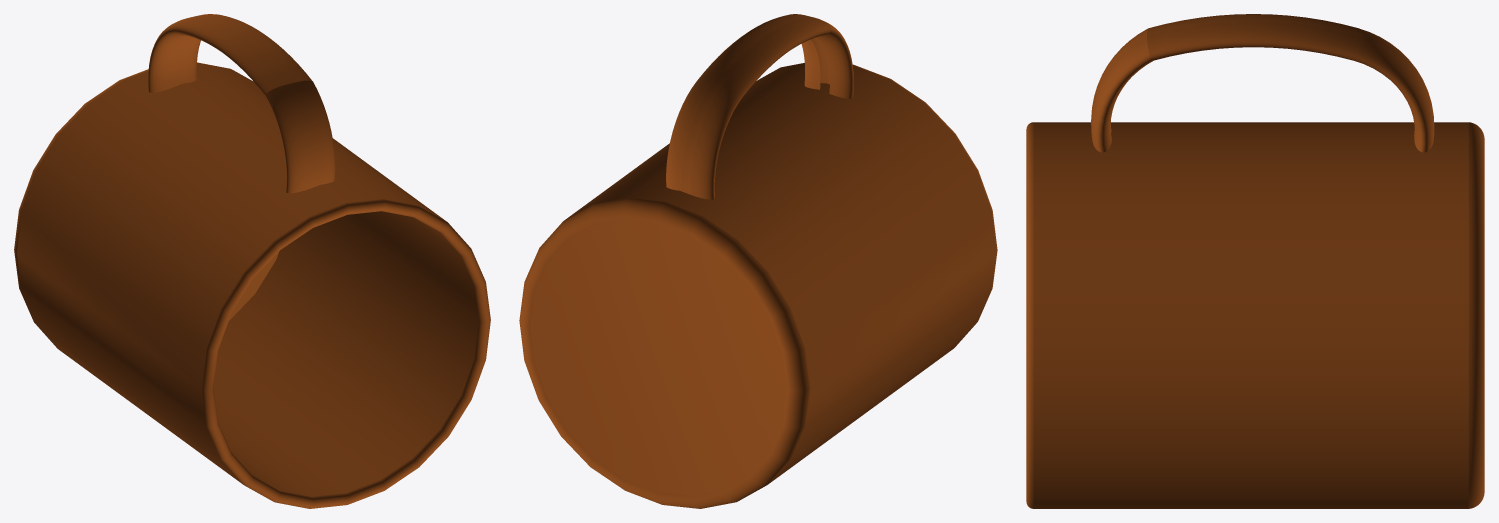
File: model_align.obj
3 renders of one model, left to right at view 1: azimuth 30°, elevation 25°; view 2: azimuth 150°, elevation 25°; view 3: azimuth 270°, elevation 25°, orthographic. The views are drawn at different scales.
Parts seen in each view (by area): view 1: mesh2_mesh2-geometry, mesh1_mesh1-geometry; view 2: mesh2_mesh2-geometry, mesh1_mesh1-geometry; view 3: mesh2_mesh2-geometry, mesh1_mesh1-geometry.
Boxes of the visible parts, left/top/right/bottom form: mesh2_mesh2-geometry: left=14, top=62, right=490, bottom=508; mesh1_mesh1-geometry: left=148, top=14, right=335, bottom=193; mesh2_mesh2-geometry: left=519, top=63, right=997, bottom=508; mesh1_mesh1-geometry: left=666, top=14, right=853, bottom=199; mesh2_mesh2-geometry: left=1026, top=122, right=1484, bottom=508; mesh1_mesh1-geometry: left=1091, top=14, right=1434, bottom=152.
Bounding box in the file's own units: 0.0861 × 0.1141 × 0.1016.
